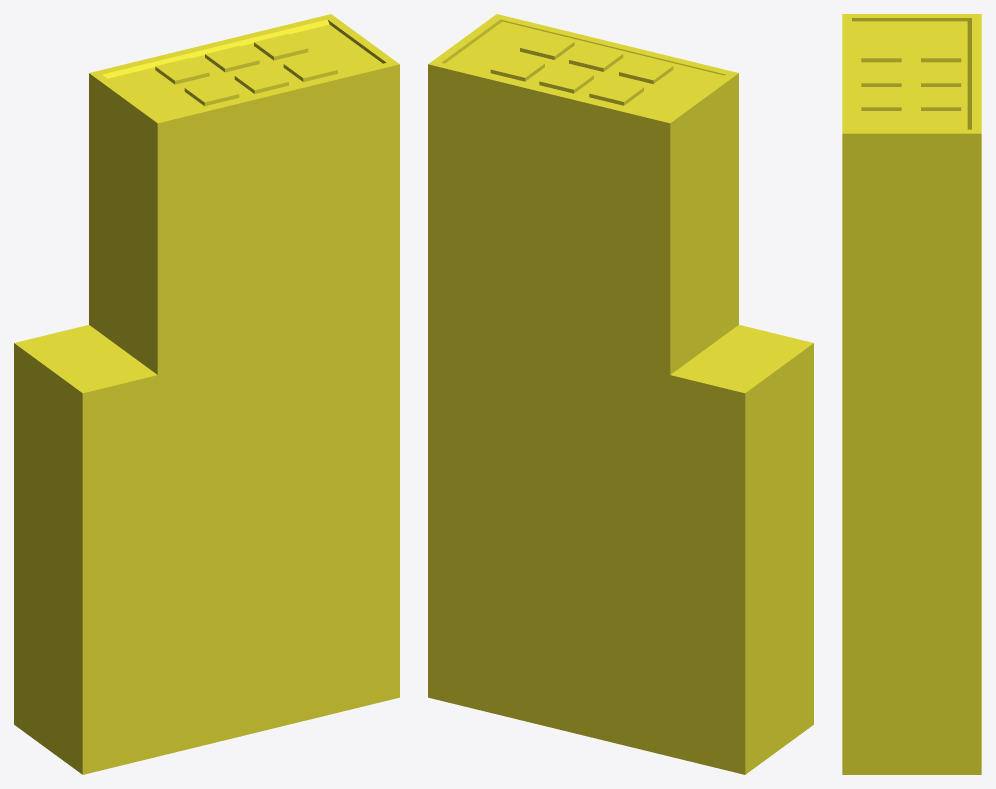
Rendered from Building7_yellow.fbx.
The picture shows the model from 3 angles, left to right: view 1: azimuth 30°, elevation 25°; view 2: azimuth 150°, elevation 25°; view 3: azimuth 270°, elevation 25°; orthographic projection.
Visible parts, largest first — view 1: Building 7; view 2: Building 7; view 3: Building 7.
Part boxes in pixels (left/top/right/bottom): Building 7: left=14, top=14, right=399, bottom=774; Building 7: left=428, top=14, right=813, bottom=774; Building 7: left=842, top=14, right=981, bottom=774.
Size of the model in its own units: 2204 by 4209 by 828.
1 material, 1 textured.
